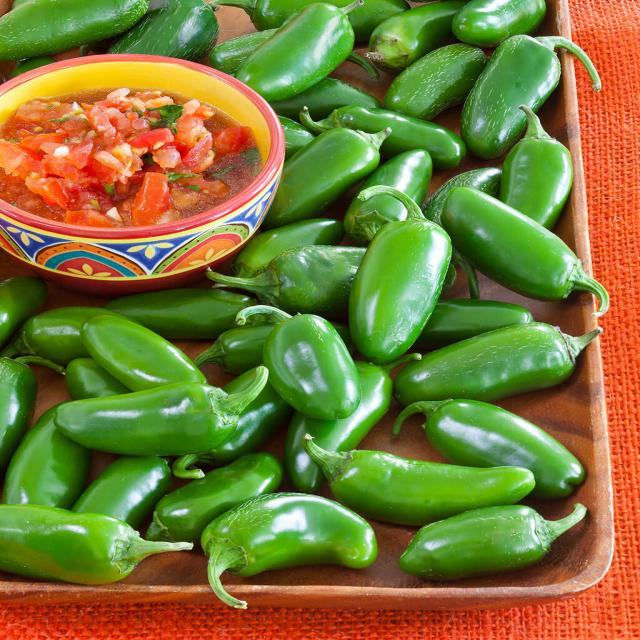aji: (277, 7, 592, 575), (12, 308, 588, 570)
